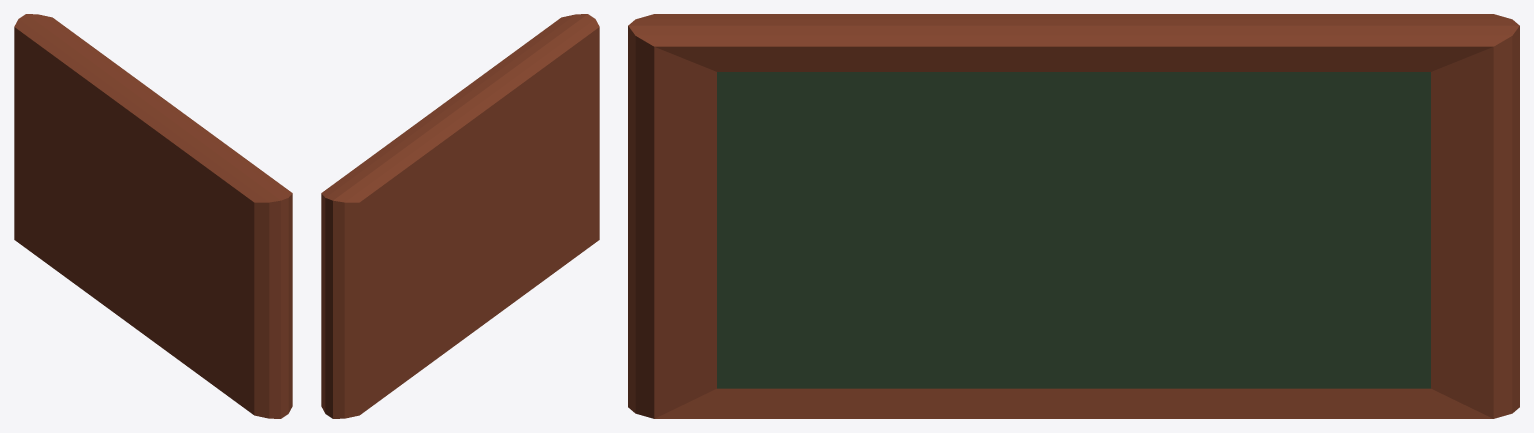
The model's file is Wall Plaque.fbx.
3 renders of one model, left to right at view 1: azimuth 30°, elevation 25°; view 2: azimuth 150°, elevation 25°; view 3: azimuth 270°, elevation 25°, orthographic. The views are drawn at different scales.
Parts seen in each view (by area): view 1: Cube; view 2: Cube; view 3: Cube.
Part boxes in pixels (bbox=[...]): Cube: bbox=[14, 14, 292, 418]; Cube: bbox=[321, 14, 599, 418]; Cube: bbox=[628, 14, 1519, 418].
Size of the model in its own units: 7.51 by 40.81 by 86.41.
